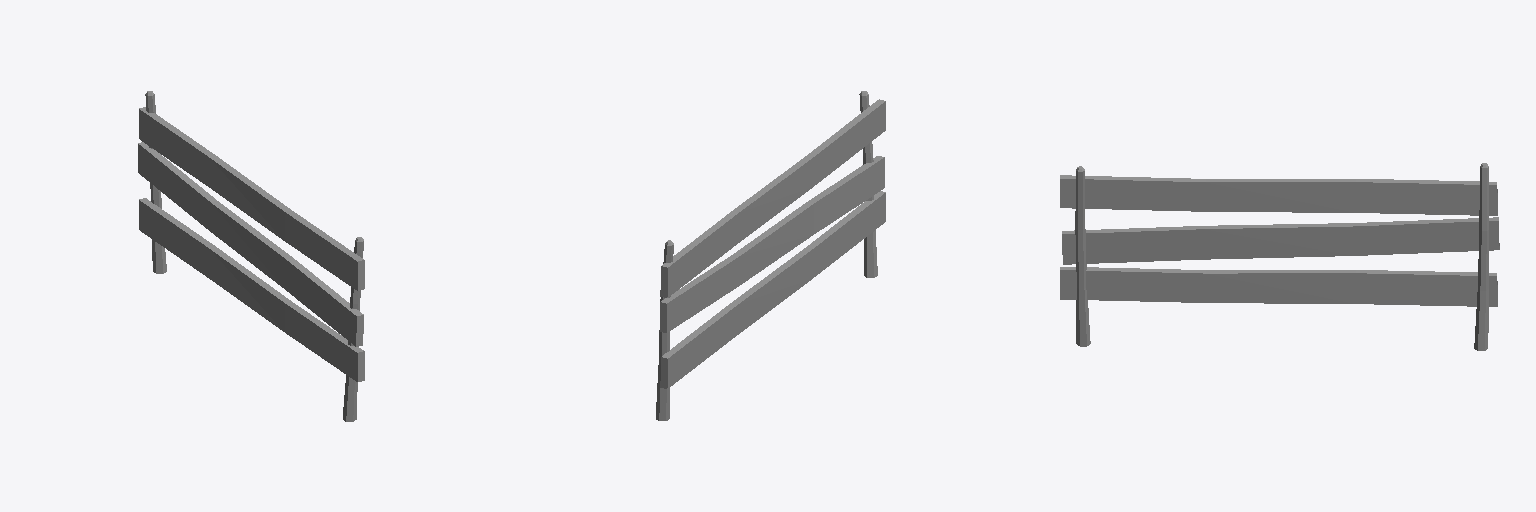
The model's file is Fence.obj.
3 views of the same model, side by side, from view 1: azimuth 30°, elevation 25°; view 2: azimuth 150°, elevation 25°; view 3: azimuth 270°, elevation 25° (orthographic).
Parts seen in each view (by area): view 1: Cube; view 2: Cube; view 3: Cube.
Boxes of the visible parts, x1,y1,x2,y2 form: Cube: [138, 91, 364, 421]; Cube: [656, 91, 885, 420]; Cube: [1060, 163, 1499, 350].
Size of the model in its own units: 0.2171 by 1.88 by 4.14.